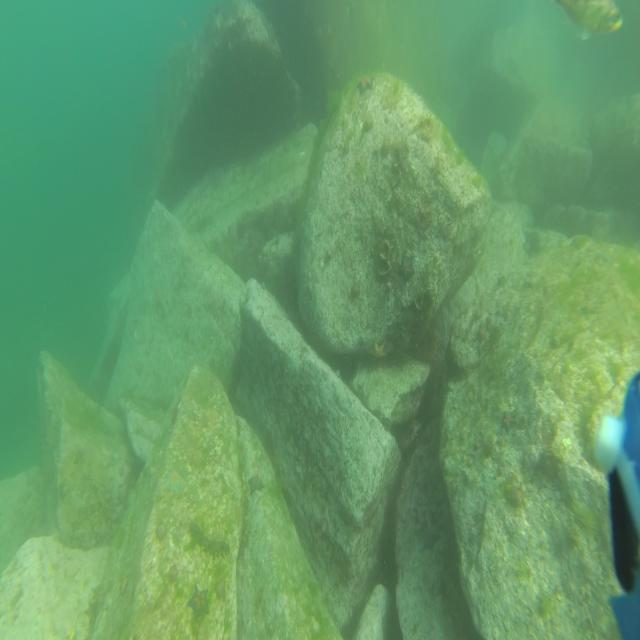holothurian: (187, 514, 231, 562)
starfish: (185, 585, 211, 621), (365, 337, 388, 366), (397, 250, 415, 285), (164, 467, 185, 494), (499, 407, 518, 436), (354, 74, 376, 93), (247, 472, 265, 495)
